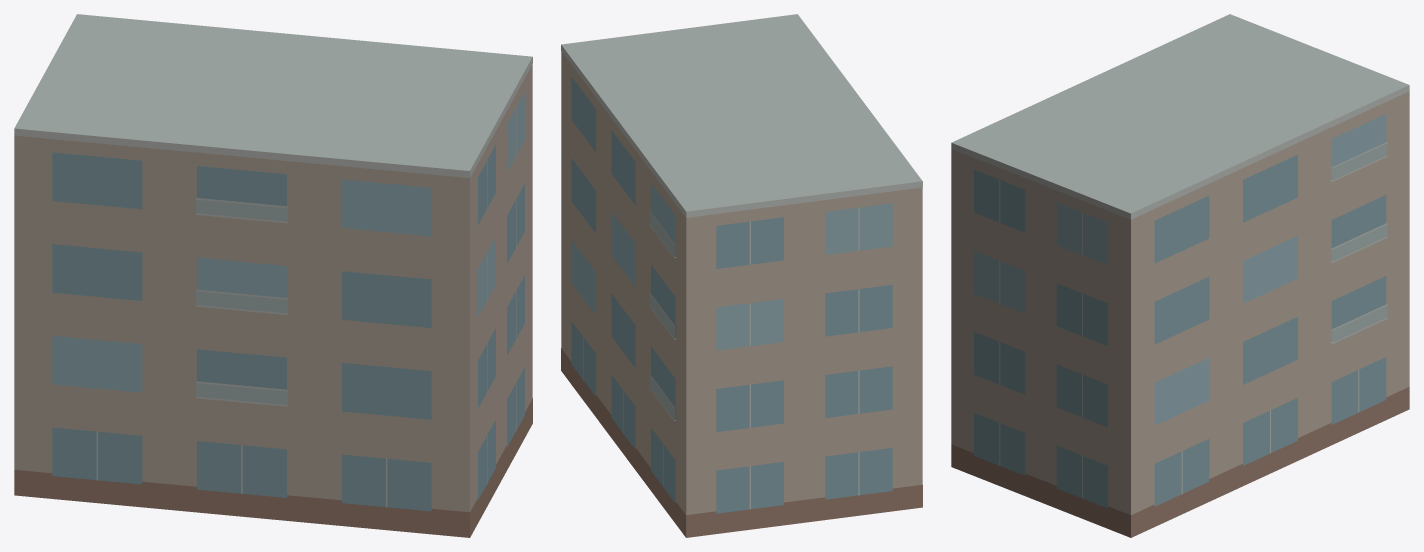
File: survey-upis-32711267.glb
3 renders of one model, left to right at view 1: azimuth 30°, elevation 25°; view 2: azimuth 150°, elevation 25°; view 3: azimuth 270°, elevation 25°, orthographic. The views are drawn at different scales.
Parts seen in each view (by area): view 1: survey-upis-32711267.tmp; view 2: survey-upis-32711267.tmp; view 3: survey-upis-32711267.tmp.
Boxes of the visible parts, x1=… form: survey-upis-32711267.tmp: x1=14, y1=14, x2=532, y2=537; survey-upis-32711267.tmp: x1=561, y1=14, x2=922, y2=537; survey-upis-32711267.tmp: x1=951, y1=14, x2=1409, y2=537.
Bounding box in the file's own units: 16.9 × 12.8 × 16.4.
